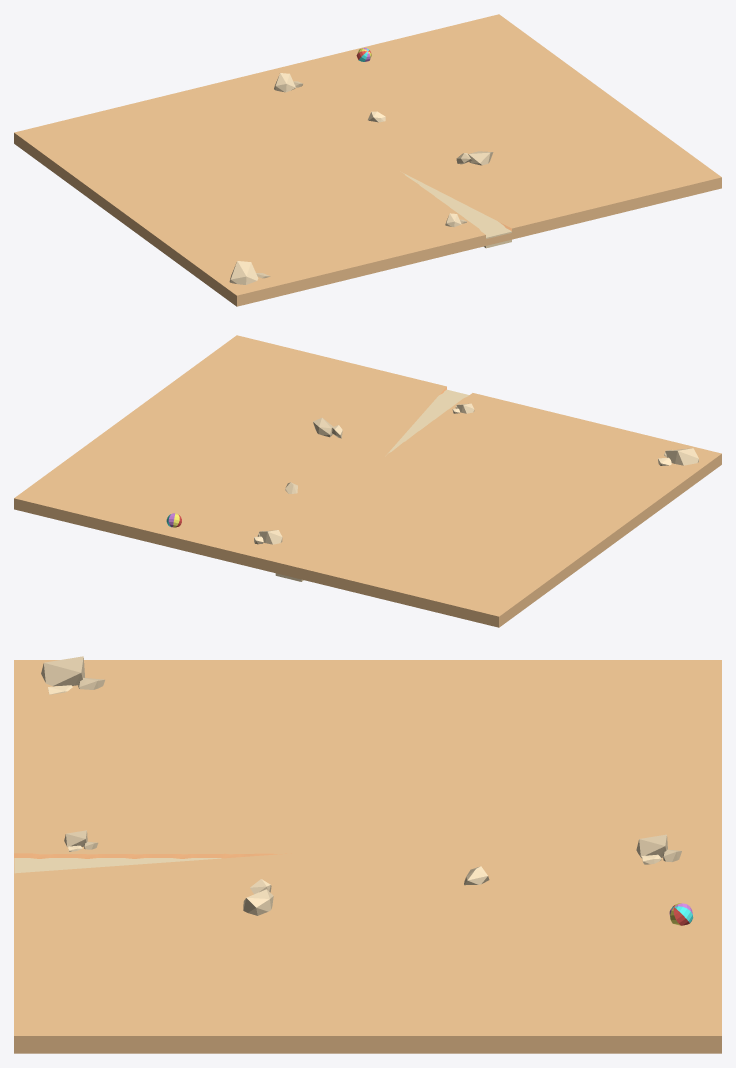
The model's file is düz yol4.fbx.
The picture shows the model from 3 angles, top to bottom: view 1: azimuth 30°, elevation 25°; view 2: azimuth 150°, elevation 25°; view 3: azimuth 270°, elevation 25°; orthographic projection. The views are drawn at different scales.
Parts seen in each view (by area): view 1: Cube.139, R1-material.009; view 2: Cube.139, R1-material.009; view 3: Cube.139, R1-material.009, R1-material.013, R1-material.010.
Boxes of the visible parts, x1=… form: Cube.139: x1=14, y1=14, x2=721, y2=306; R1-material.009: x1=229, y1=261, x2=270, y2=284; Cube.139: x1=14, y1=335, x2=721, y2=627; R1-material.009: x1=658, y1=448, x2=698, y2=465; Cube.139: x1=14, y1=660, x2=721, y2=1053; R1-material.009: x1=41, y1=656, x2=104, y2=694; R1-material.013: x1=636, y1=834, x2=681, y2=864; R1-material.010: x1=243, y1=879, x2=273, y2=915.
Bounding box in the file's own units: 4667 × 247 × 3713.
